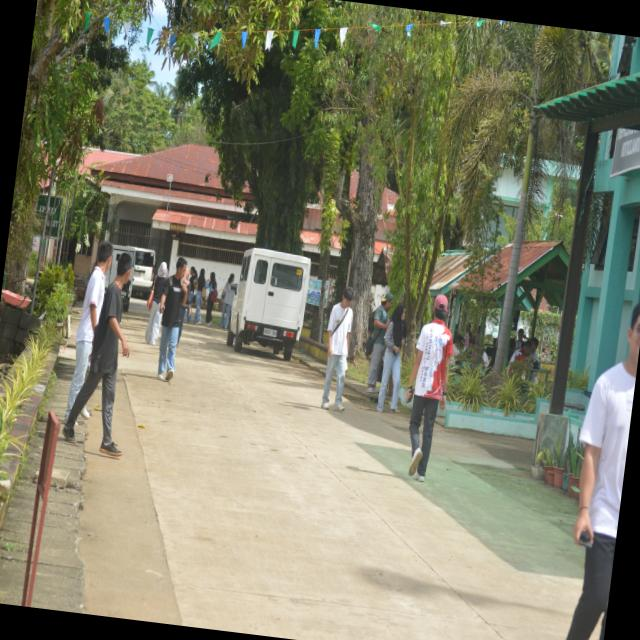person: (565, 303, 639, 639), (62, 253, 132, 456), (64, 241, 112, 421), (406, 295, 452, 481), (320, 287, 352, 412), (157, 257, 186, 380), (376, 303, 404, 412), (365, 293, 392, 393), (144, 262, 167, 345), (219, 274, 233, 329), (193, 269, 205, 325), (204, 272, 216, 326)
